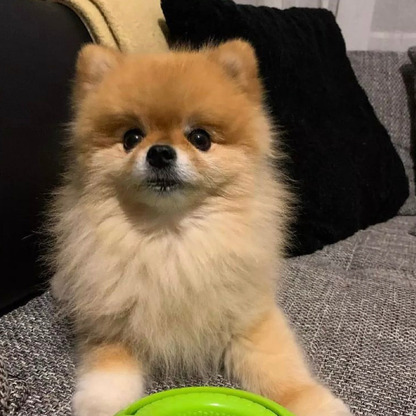Pomeranian: (50, 33, 291, 408)
